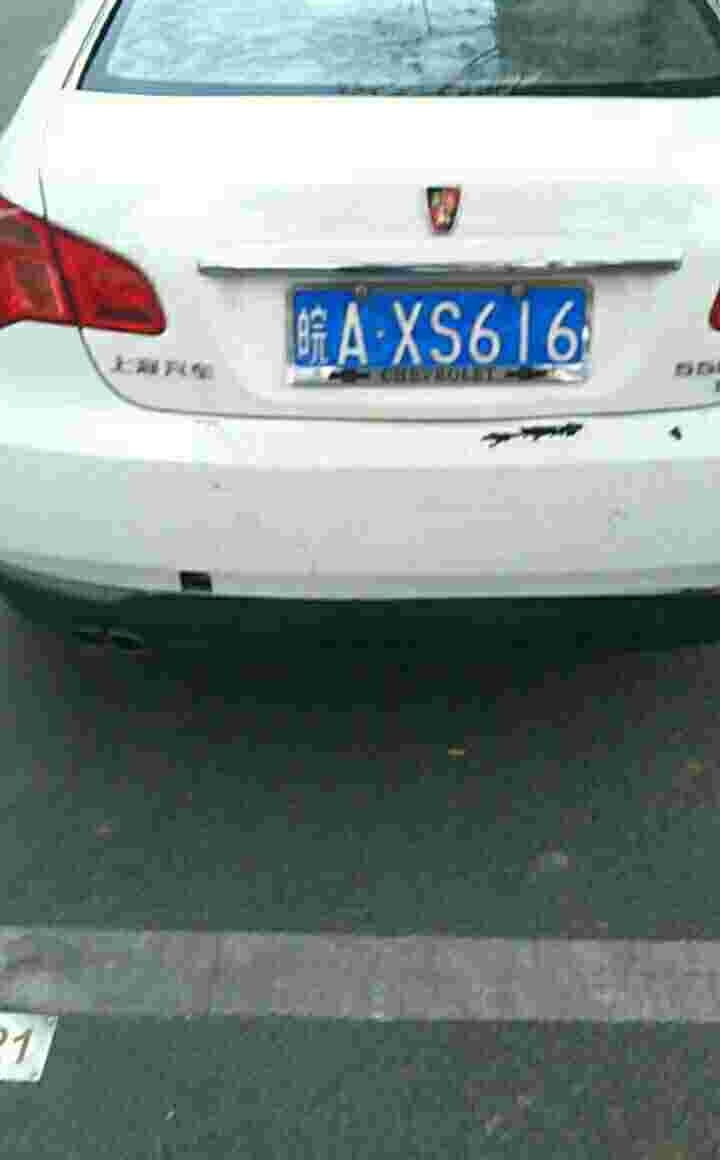license_plate: (304, 292, 590, 374)
